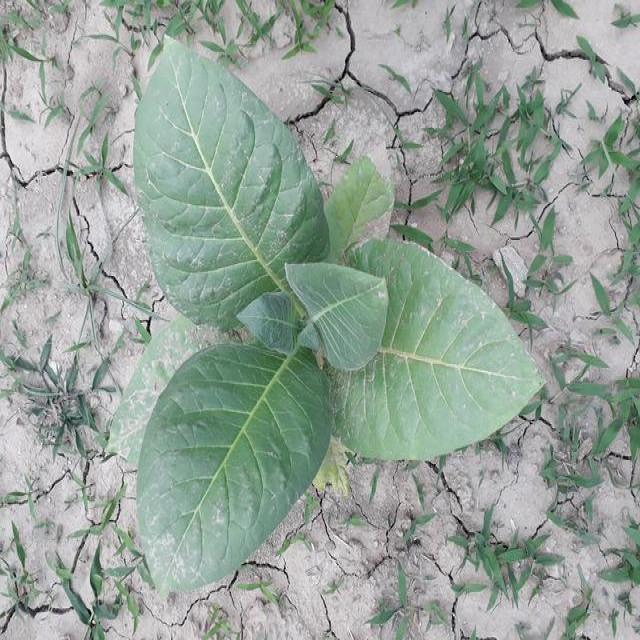crop: (108, 32, 550, 591)
